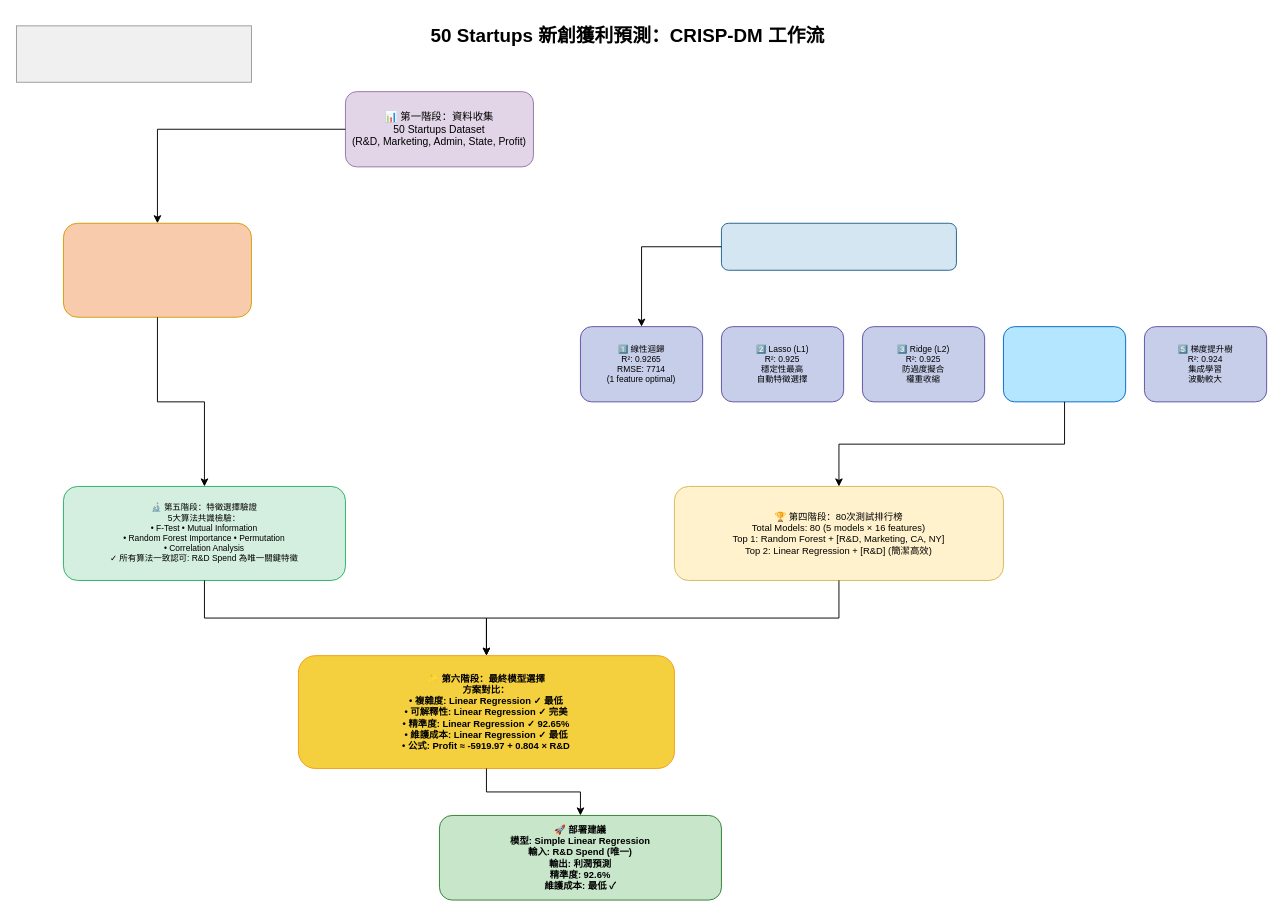
Image size: 1283x917. Some labels were removed from this diagram. The shapes that lost their labels are listed below. From the top down, each one's centre as x and y in pixels, then its label:
At (x=133, y=53): "📈 關鍵指標 R² (決定係數): 解釋變異 | RMSE: 均方根誤差 | CRISP-DM: 數據挖掘標準流程".
At (x=838, y=246): "🤖 第三階段：5大模型 × 16種特徵組合".
At (x=157, y=269): "🔍 第二階段：探索性資料分析 • 相關性分析 (R²=0.97) • 分佈檢查 • 異常值檢測 • 州別分析".
At (x=1064, y=364): "4️⃣ 隨機森林 R²: 0.9324 🏆 非線性特性 RMSE: 7401".
